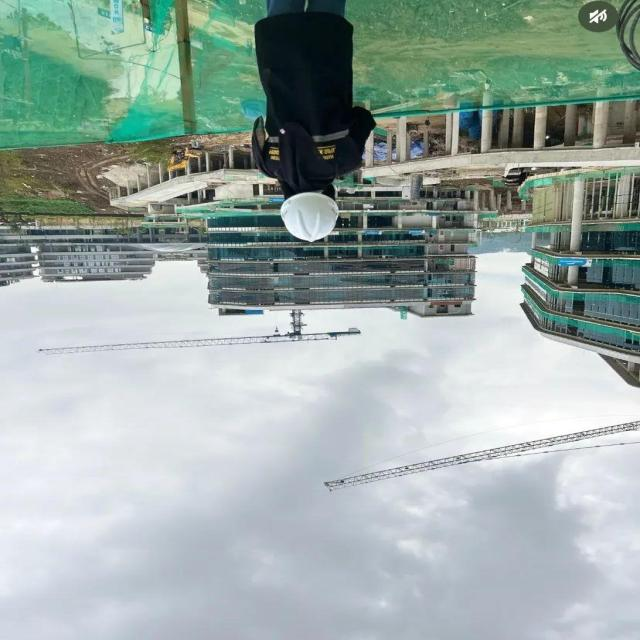safetyhelmet: (277, 176, 346, 246)
